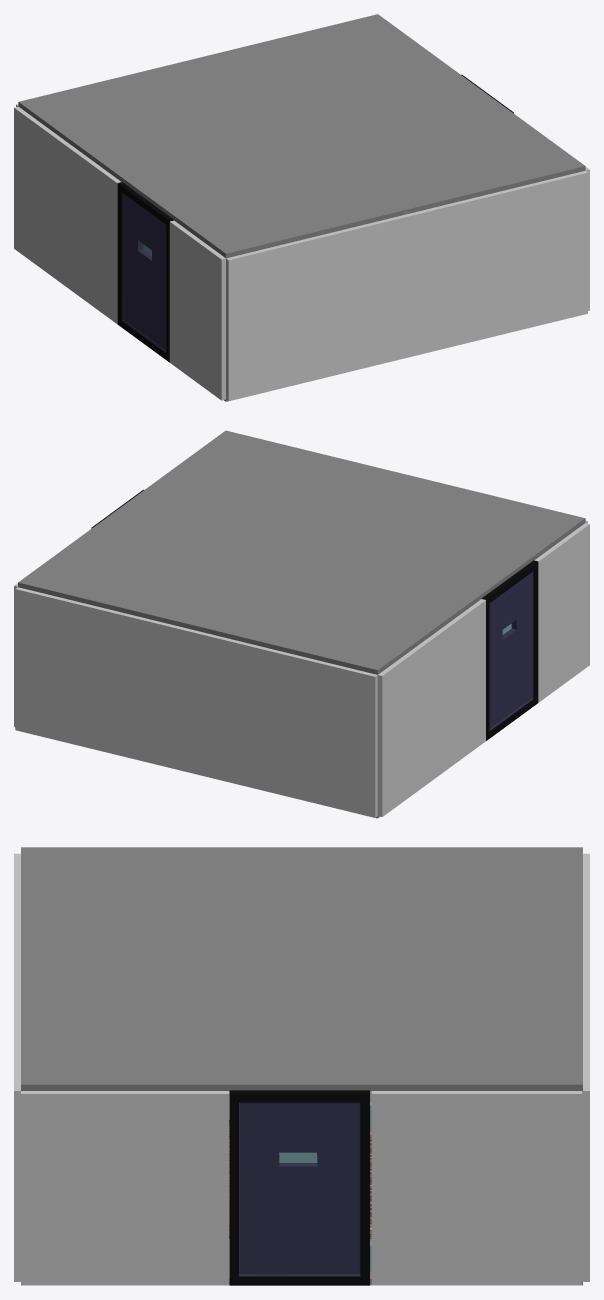
The model's file is Sahne2.fbx.
The picture shows the model from 3 angles, top to bottom: view 1: azimuth 30°, elevation 25°; view 2: azimuth 150°, elevation 25°; view 3: azimuth 270°, elevation 25°; orthographic projection. The views are drawn at different scales.
Parts seen in each view (by area): view 1: Cube.009, Cube.002, Cube.001, Cube.008, Door.001; view 2: Cube.009, Cube.002, Cube.001, Door.001, Cube.008; view 3: Cube.009, Door, Cube.005, Cube.004, Cube.006, Cube.007, Cube.002.
Boxes of the visible parts, bbox=[...] form: Cube.009: bbox=[18, 14, 585, 258]; Cube.002: bbox=[16, 104, 587, 401]; Cube.001: bbox=[14, 106, 121, 324]; Cube.008: bbox=[169, 220, 225, 400]; Door.001: bbox=[117, 182, 174, 362]; Cube.009: bbox=[18, 430, 585, 674]; Cube.002: bbox=[15, 520, 587, 817]; Cube.001: bbox=[377, 599, 485, 816]; Door.001: bbox=[481, 560, 538, 740]; Cube.008: bbox=[534, 523, 589, 702]; Cube.009: bbox=[21, 847, 582, 1090]; Door: bbox=[229, 1090, 371, 1285]; Cube.005: bbox=[441, 1091, 581, 1284]; Cube.004: bbox=[21, 1091, 161, 1284]; Cube.006: bbox=[371, 1091, 441, 1284]; Cube.007: bbox=[161, 1091, 228, 1284]; Cube.002: bbox=[14, 853, 589, 1281].
Size of the model in its own units: 822 by 315 by 820.
